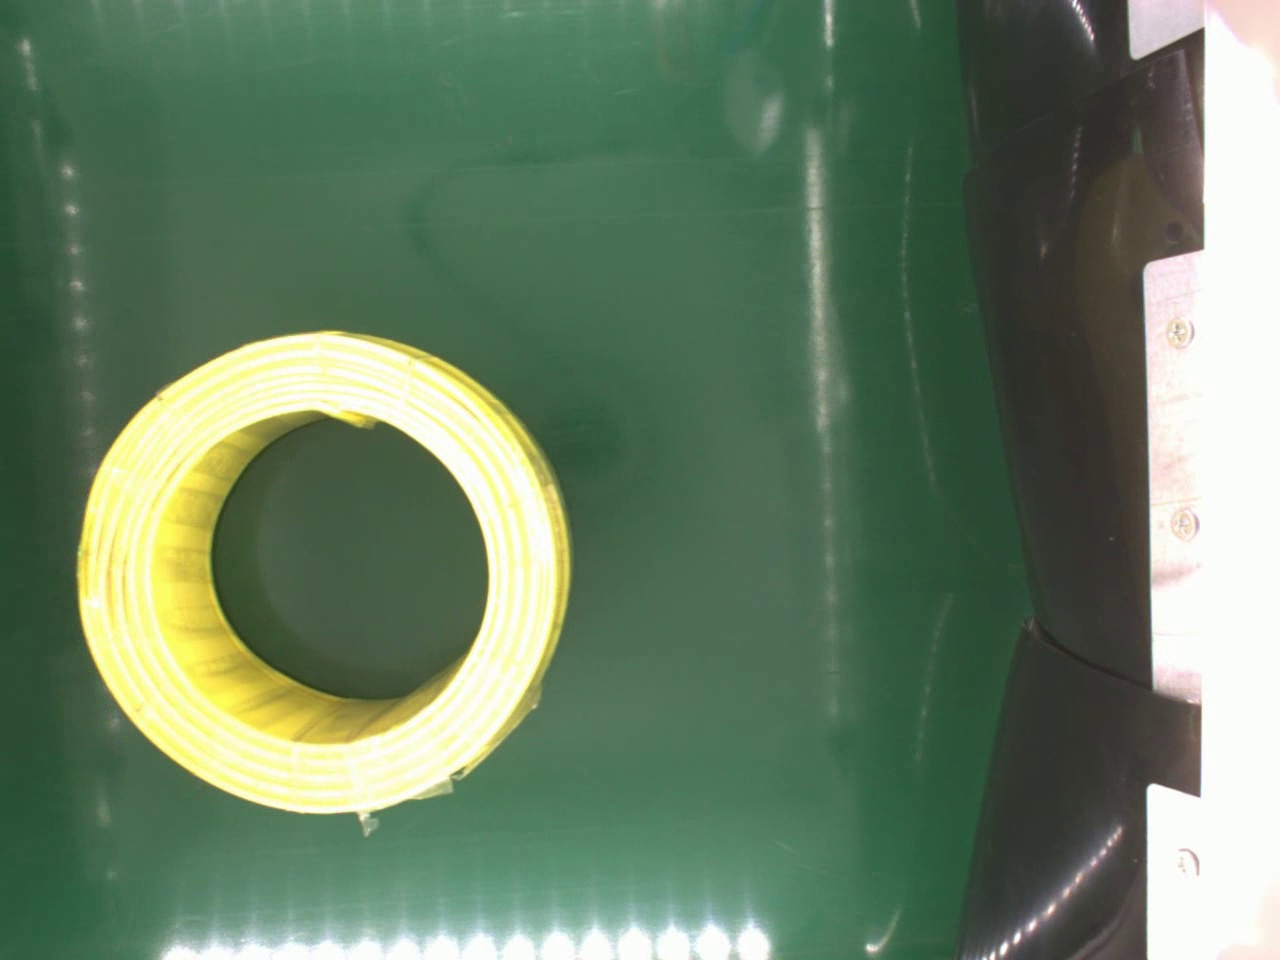yellow: (73, 326, 577, 820)
